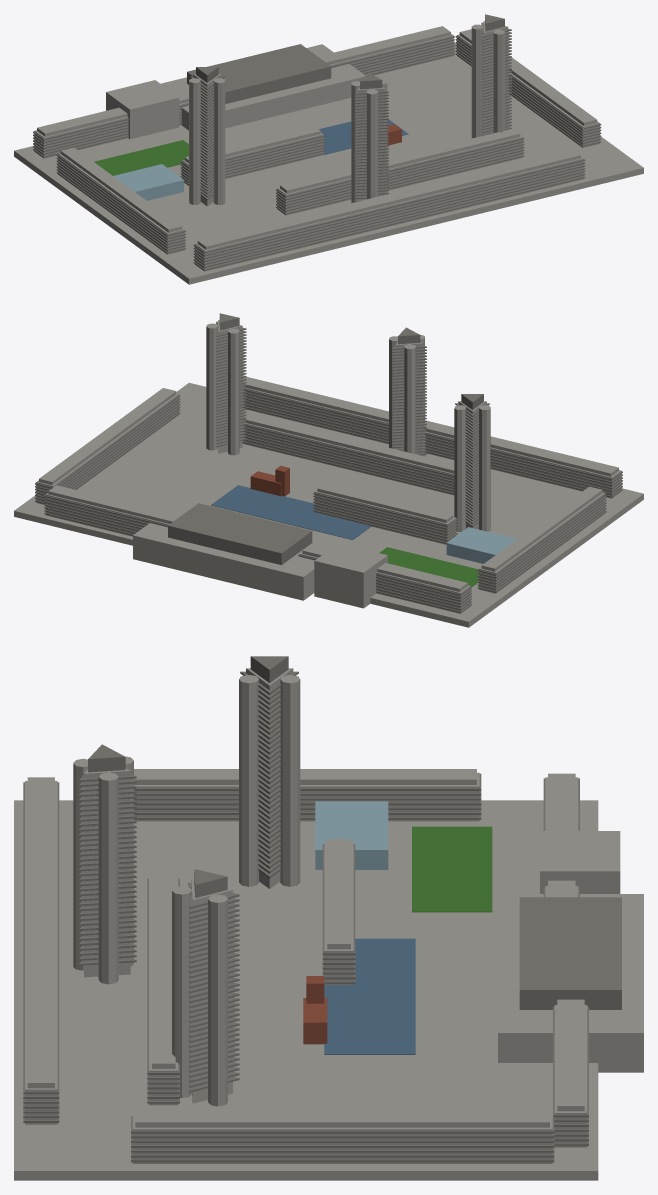
The model's file is barbican_estate.glb.
The picture shows the model from 3 angles, top to bottom: view 1: azimuth 30°, elevation 25°; view 2: azimuth 150°, elevation 25°; view 3: azimuth 270°, elevation 25°; orthographic projection. The views are drawn at different scales.
Visible parts, largest first — view 1: barbican_estate; view 2: barbican_estate; view 3: barbican_estate.
Part boxes in pixels (x1=…): barbican_estate: x1=14, y1=14, x2=643, y2=284; barbican_estate: x1=14, y1=313, x2=643, y2=627; barbican_estate: x1=14, y1=656, x2=643, y2=1180.
Size of the model in its own units: 480 by 137 by 345.
